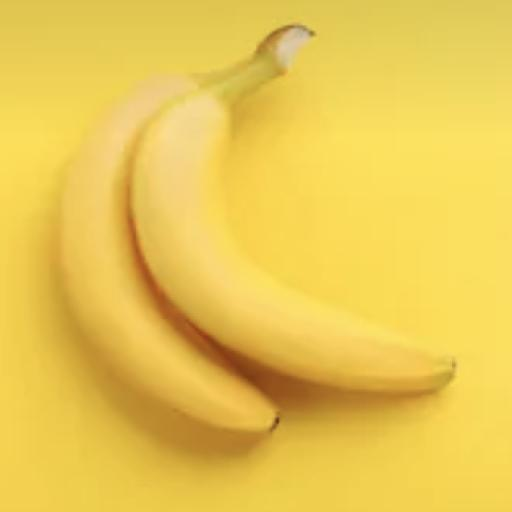banana: (132, 27, 455, 393), (59, 77, 277, 433)
